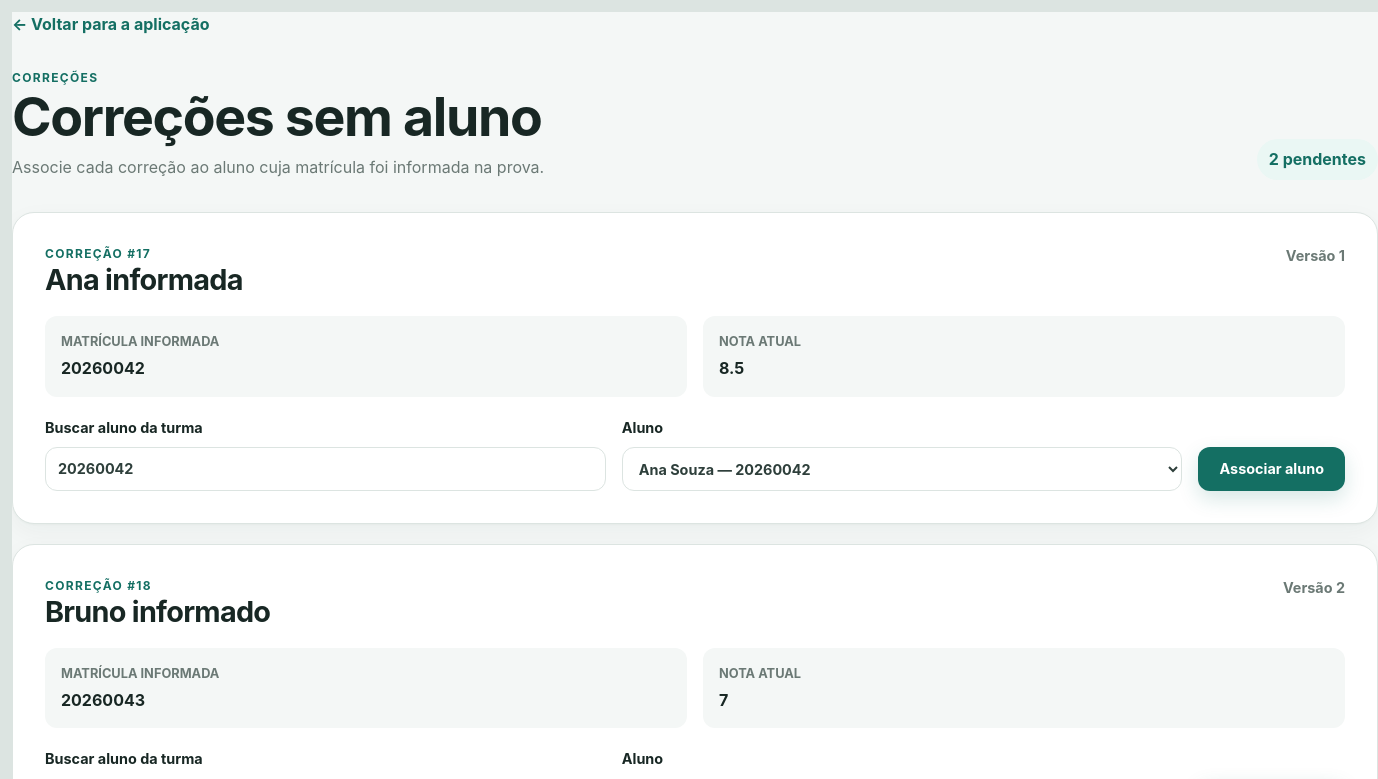
Test: tela de correcoes sem aluno › exibe os dados reportados e busca somente entre alunos da aplicacao
Replace the text in the search field labelled "Buscar aluno da turma" below "20260042" with "Bruno": coordinates (325, 469) [45,447,606,491]
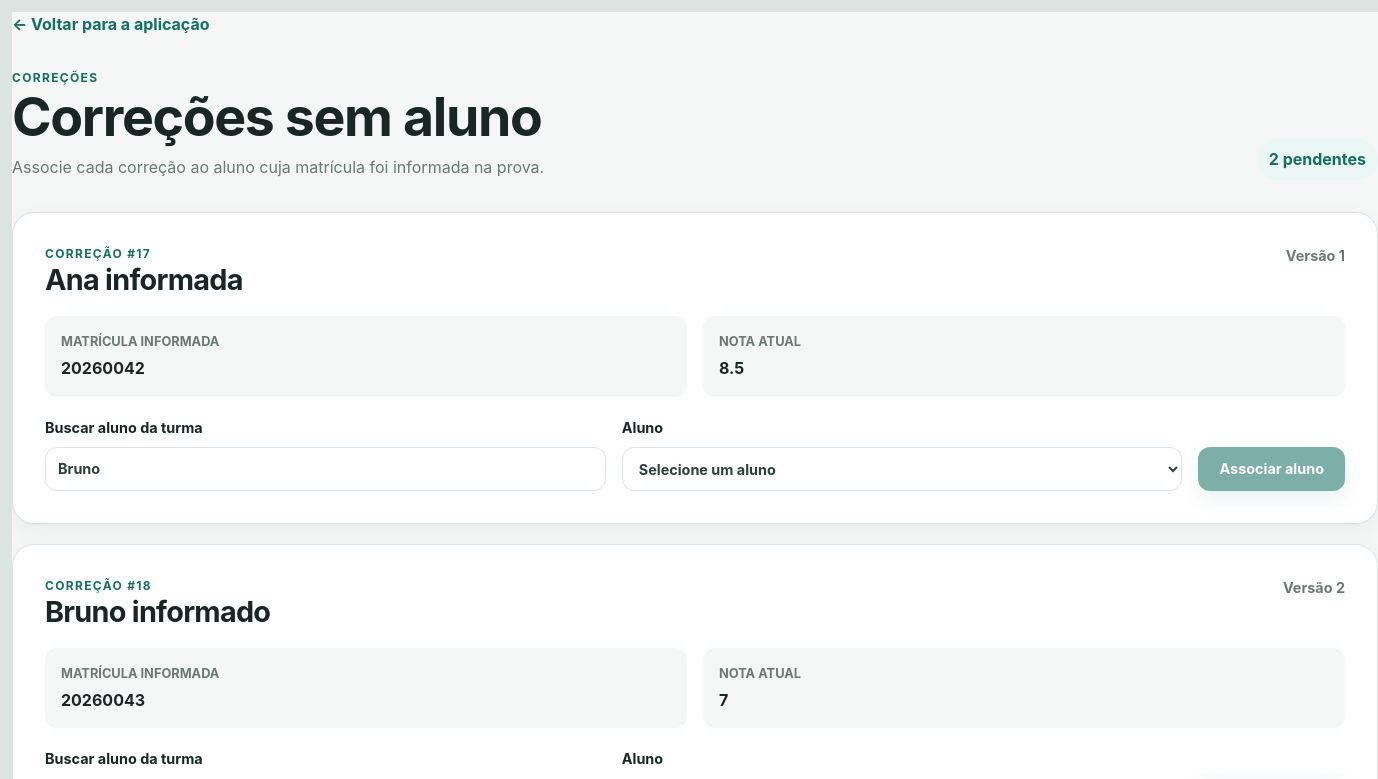
Check: the dropdown does not show "Ana Souza"
Check: the submit button is disabled, box [1198,447,1345,491]
